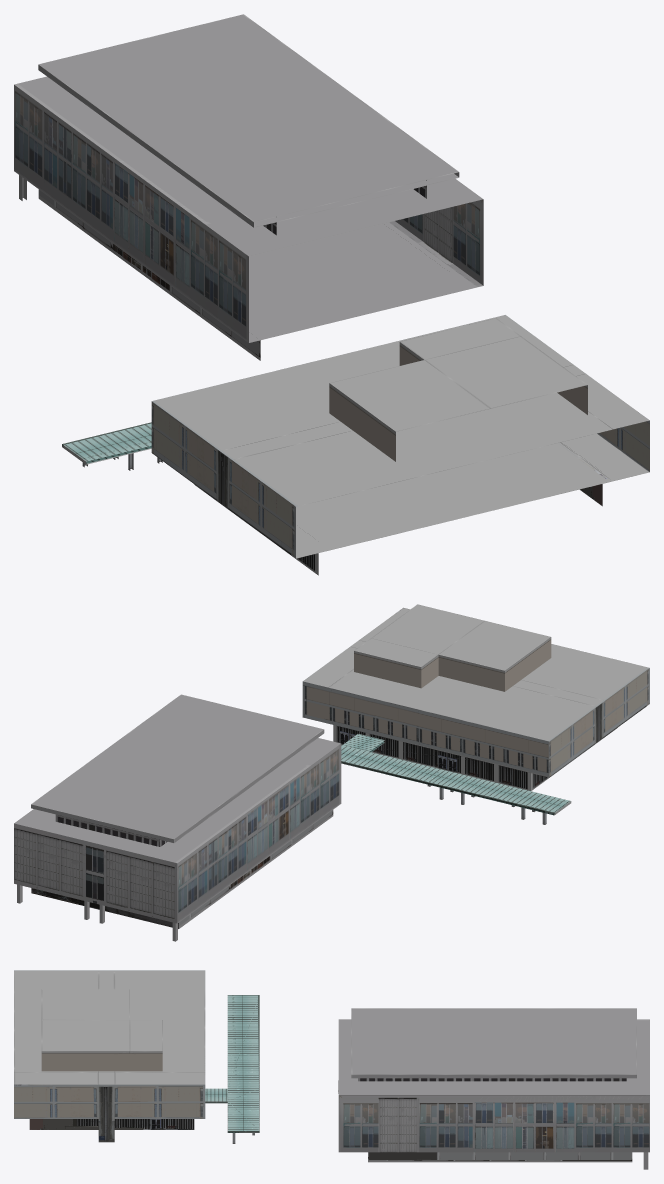
The model's file is Frederic_Lassere _Schoool_of_Music.obj.
3 views of the same model, one above another, from view 1: azimuth 30°, elevation 25°; view 2: azimuth 150°, elevation 25°; view 3: azimuth 270°, elevation 25° (orthographic). The views are drawn at different scales.
Visible parts, largest first — view 1: Frederic_Lassere_Bldg_1_Mesh.001; view 2: Frederic_Lassere_Bldg_1_Mesh.001; view 3: Frederic_Lassere_Bldg_1_Mesh.001.
Boxes of the visible parts, box(x1,y1,x2,y2) form: Frederic_Lassere_Bldg_1_Mesh.001: box(14, 14, 649, 575); Frederic_Lassere_Bldg_1_Mesh.001: box(14, 604, 649, 941); Frederic_Lassere_Bldg_1_Mesh.001: box(14, 970, 649, 1169).
Size of the model in its own units: 0.0484 by 0.0133 by 0.0837.
